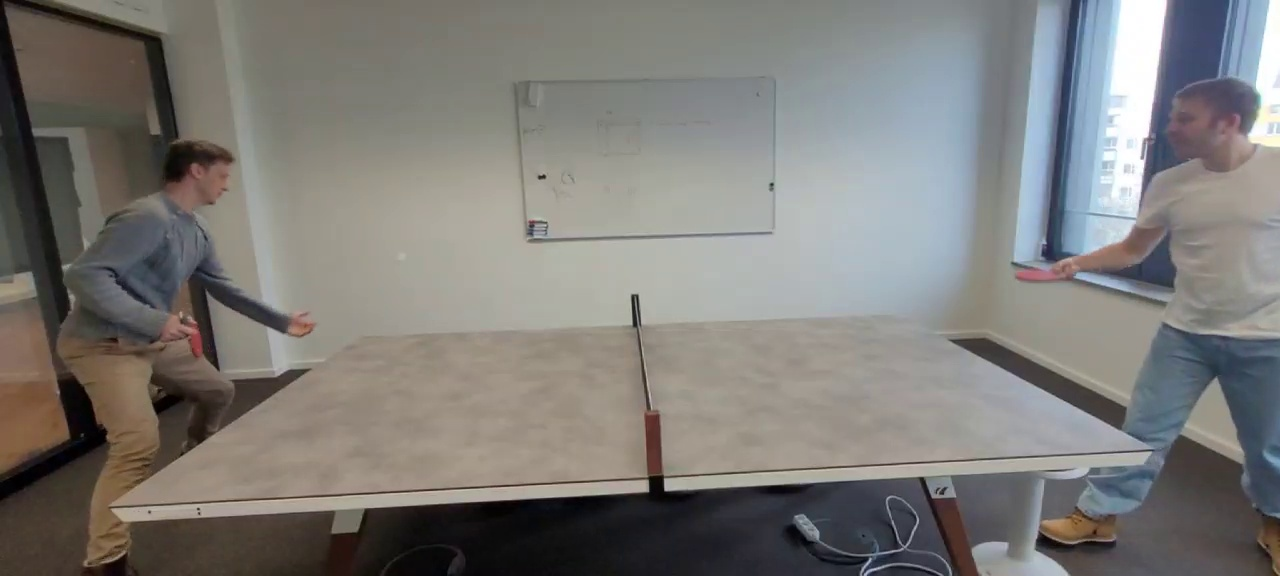1: (180, 311, 203, 358), (1016, 265, 1079, 282)
2: (394, 251, 408, 264)
ttplatte: (109, 313, 1153, 506)
